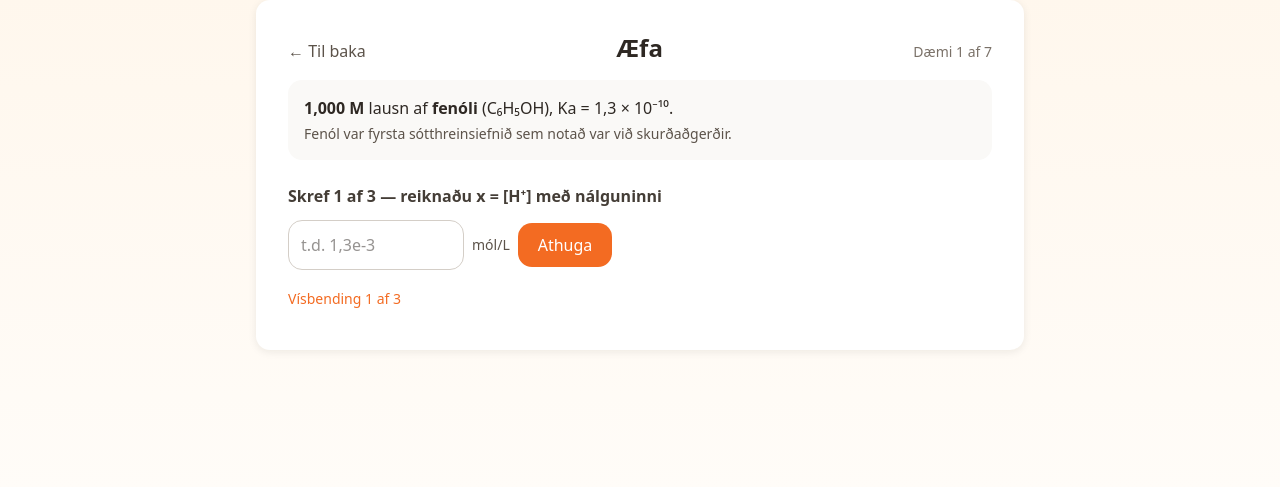
Scenario: Æfa › focuses the last hint once its button is gone
Click the button "Vísbending 1 af 3": (344, 299) [288,289,401,309]
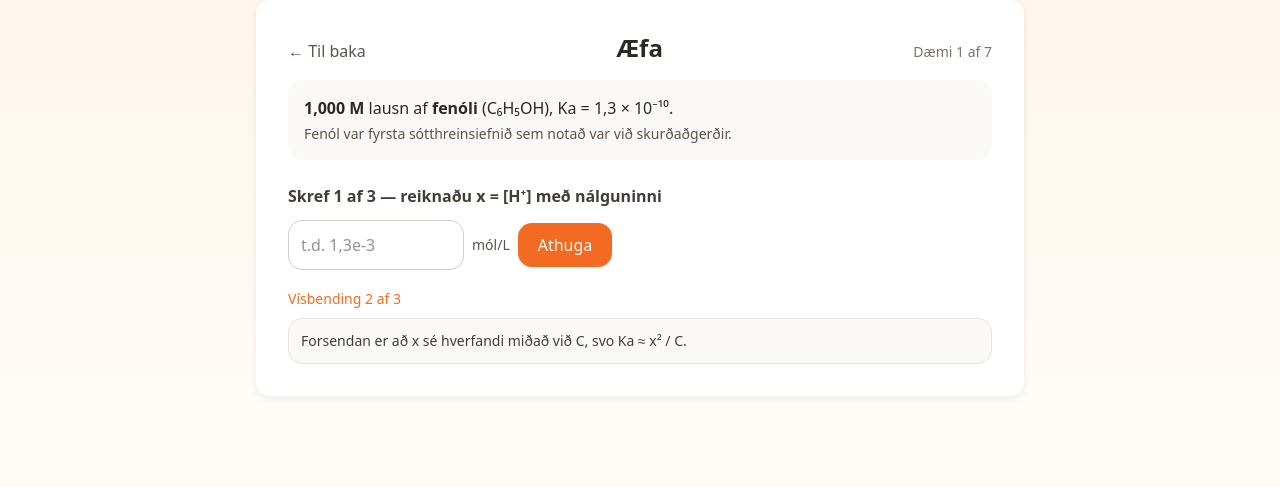
Click the button "Vísbending 2 af 3": (344, 299) [288,289,401,309]
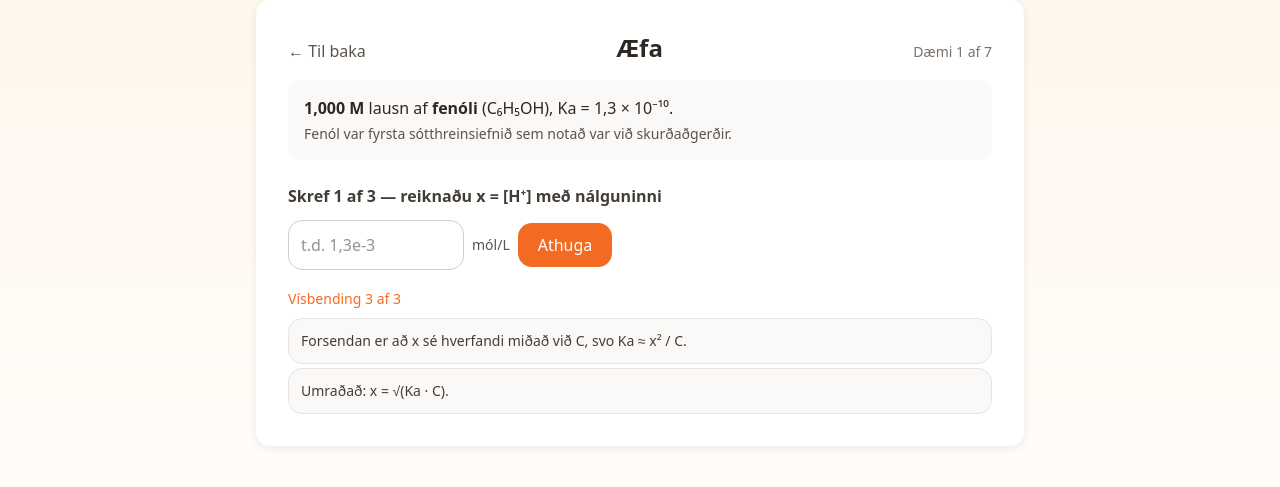
Click the button "Vísbending 3 af 3": (344, 299) [288,289,401,309]
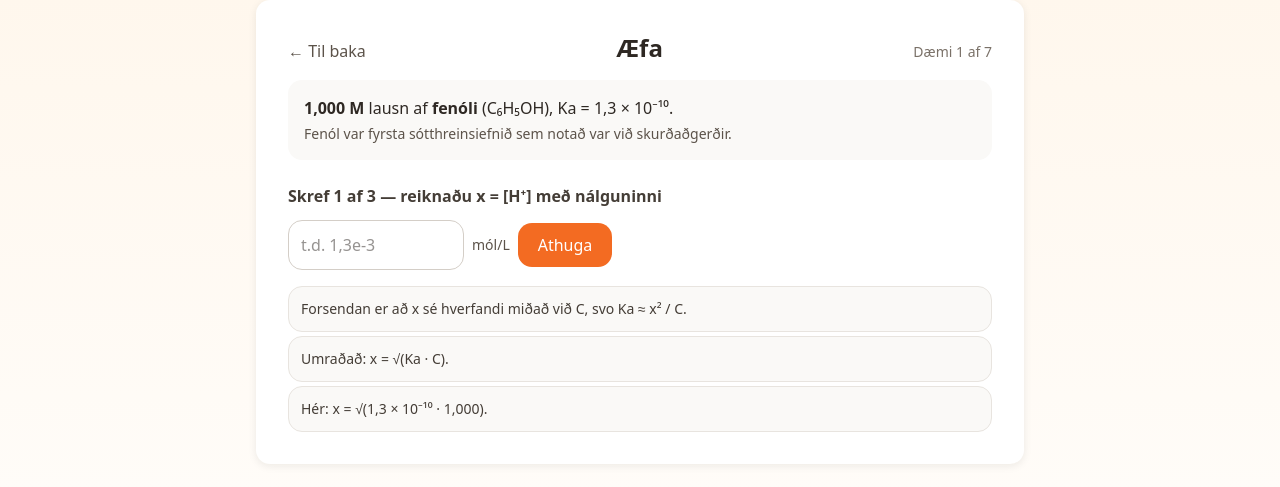
Expected: the button "Vísbending" is gone
